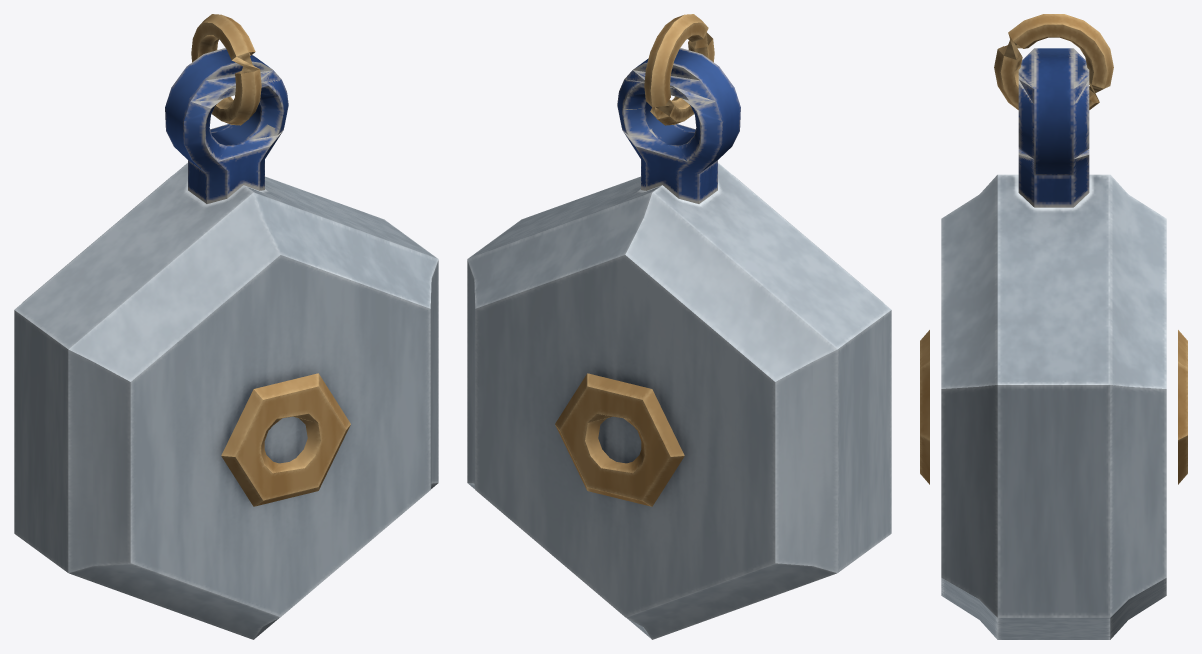
Rendered from Anchorward_Head.fbx.
3 renders of one model, left to right at view 1: azimuth 30°, elevation 25°; view 2: azimuth 150°, elevation 25°; view 3: azimuth 270°, elevation 25°, orthographic. The views are drawn at different scales.
Parts seen in each view (by area): view 1: Anchorward_Head; view 2: Anchorward_Head; view 3: Anchorward_Head.
Part boxes in pixels (<box>): Anchorward_Head: <box>14,14,438,639</box>; Anchorward_Head: <box>467,14,891,639</box>; Anchorward_Head: <box>920,14,1187,639</box>.
Size of the model in its own units: 0.631 by 0.9799 by 0.38.
